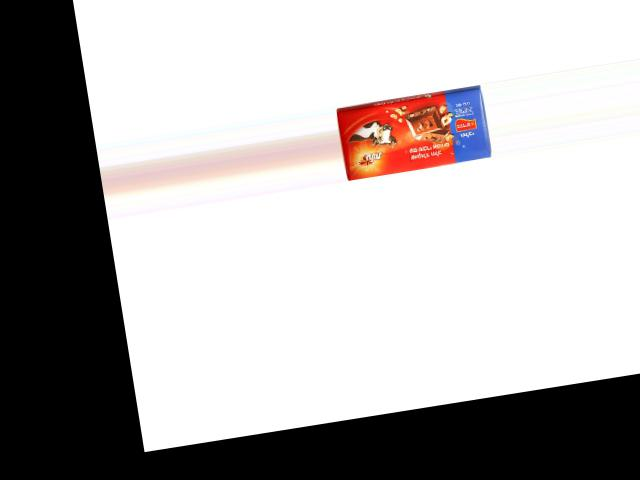chocolate: (334, 85, 491, 180)
